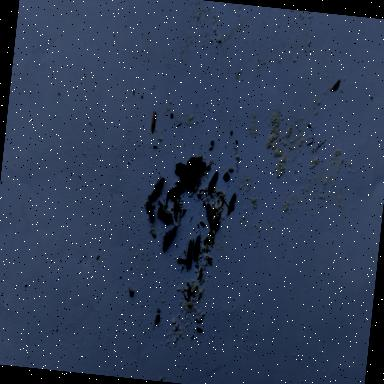pbw: (150, 175, 165, 202), (191, 160, 208, 182), (226, 190, 238, 219), (204, 202, 216, 231), (186, 237, 195, 273), (192, 228, 202, 260), (174, 162, 196, 176), (156, 205, 174, 222), (167, 182, 184, 200), (168, 197, 180, 222), (176, 176, 200, 188), (207, 170, 219, 192), (144, 202, 156, 222), (186, 152, 203, 166), (150, 110, 158, 135)
